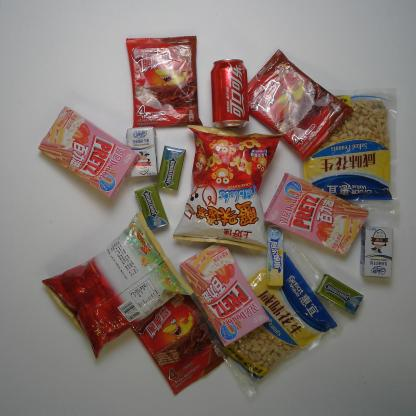Candy: (266, 225, 284, 289)
Dessert: (247, 49, 355, 160), (130, 293, 229, 395), (179, 242, 270, 347), (38, 106, 140, 198), (263, 172, 369, 256), (125, 36, 203, 128)
Dried Fruit: (192, 238, 346, 398), (299, 87, 401, 220)
Drink: (210, 58, 249, 129)
Gum: (314, 273, 364, 315), (134, 184, 169, 230), (156, 145, 186, 191)
Milk: (359, 225, 394, 279), (126, 126, 159, 178)
Puffed Food: (41, 211, 194, 359), (172, 124, 283, 251)
